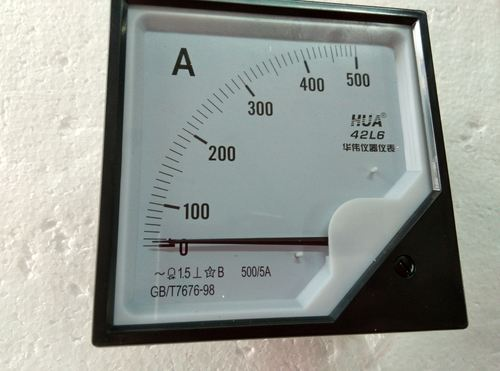pointer: (113, 2, 440, 325)
